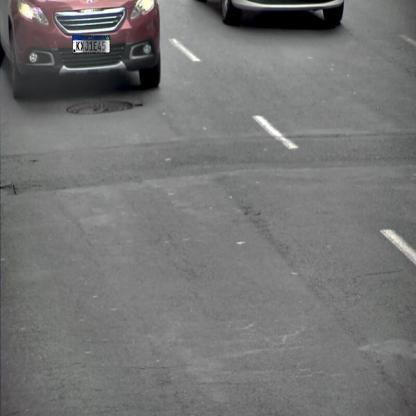PlacaM: (72, 36, 110, 53)
